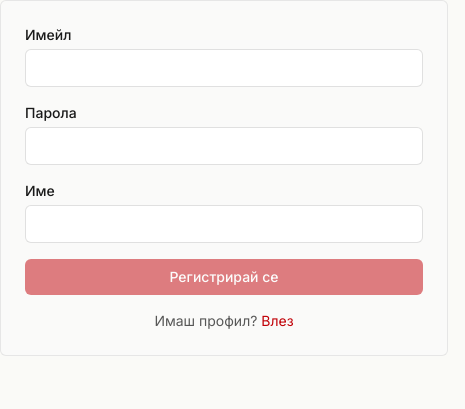
Test: <SignUpForm> › shows Bulgarian error on duplicate email
Type "test@example.bg" into the field labelled "Имейл" at (224, 68), box [25,49,423,87]
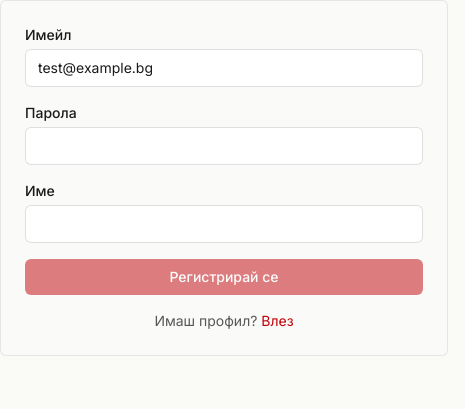
Type "supersecret" into the password field labelled "Парола" at (224, 146), box [25,127,423,165]
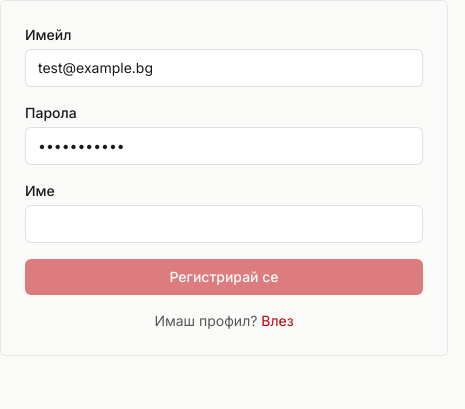
Type "Иван Петров" into the field labelled "Име" at (224, 224), box [25,205,423,243]
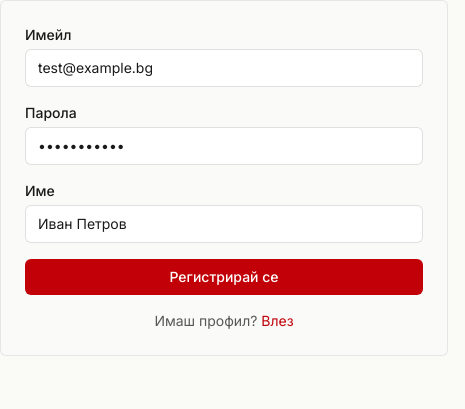
Click the button "Регистрирай се" at (224, 277), box [25,259,423,295]
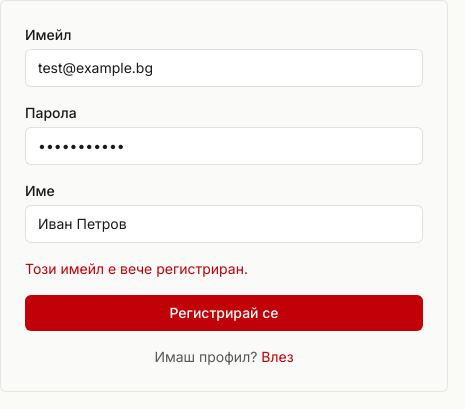
Now the text "Този имейл е вече регистриран." is shown, box [25,260,248,277]
